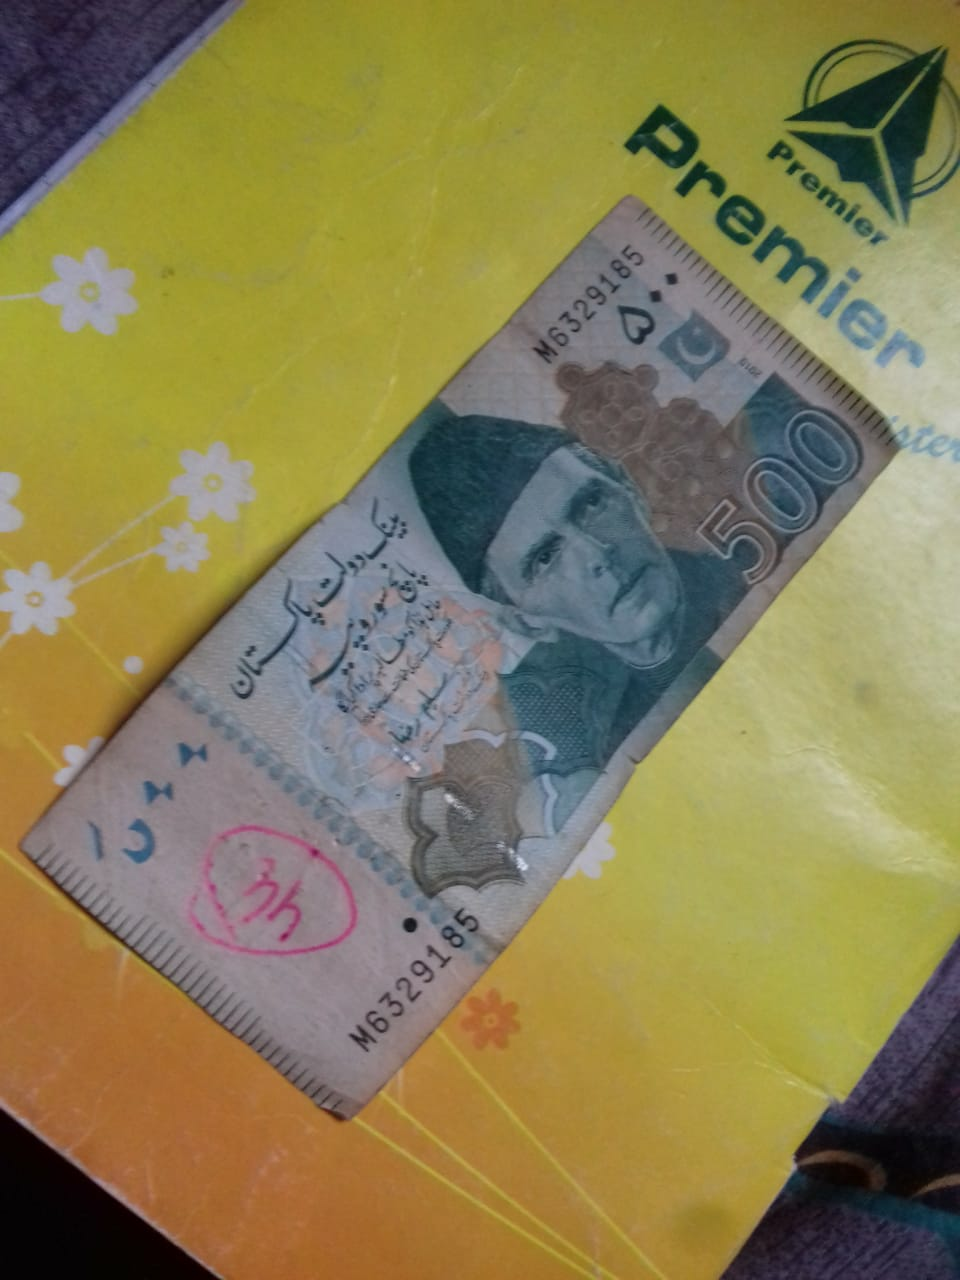500 rupee: (20, 182, 899, 1106)
